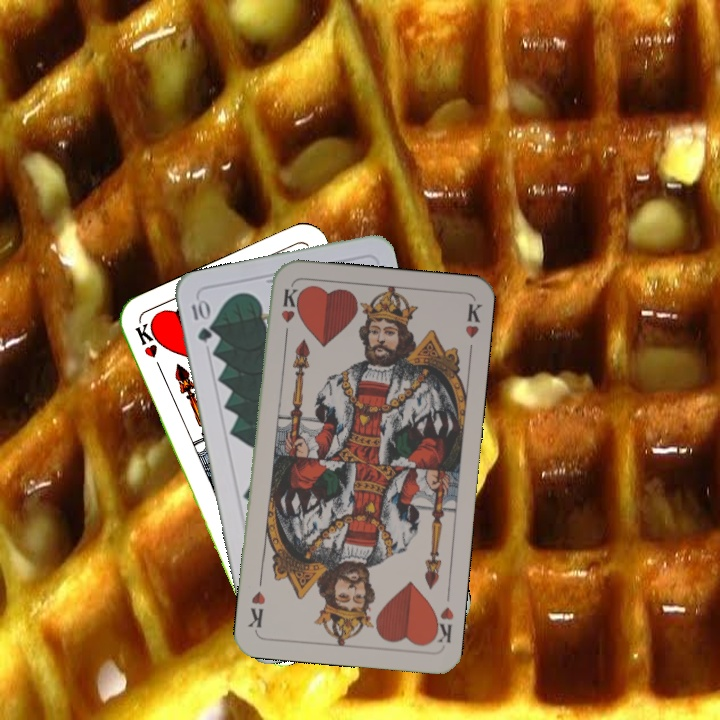G10: (187, 295, 214, 345)
HK: (131, 318, 166, 376), (277, 284, 300, 343), (427, 603, 457, 646)
